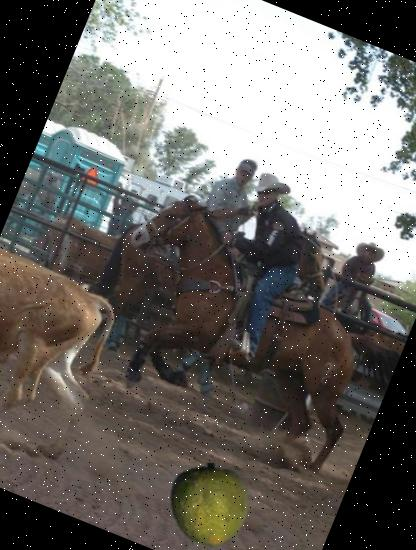Limes: (152, 450, 263, 550)
